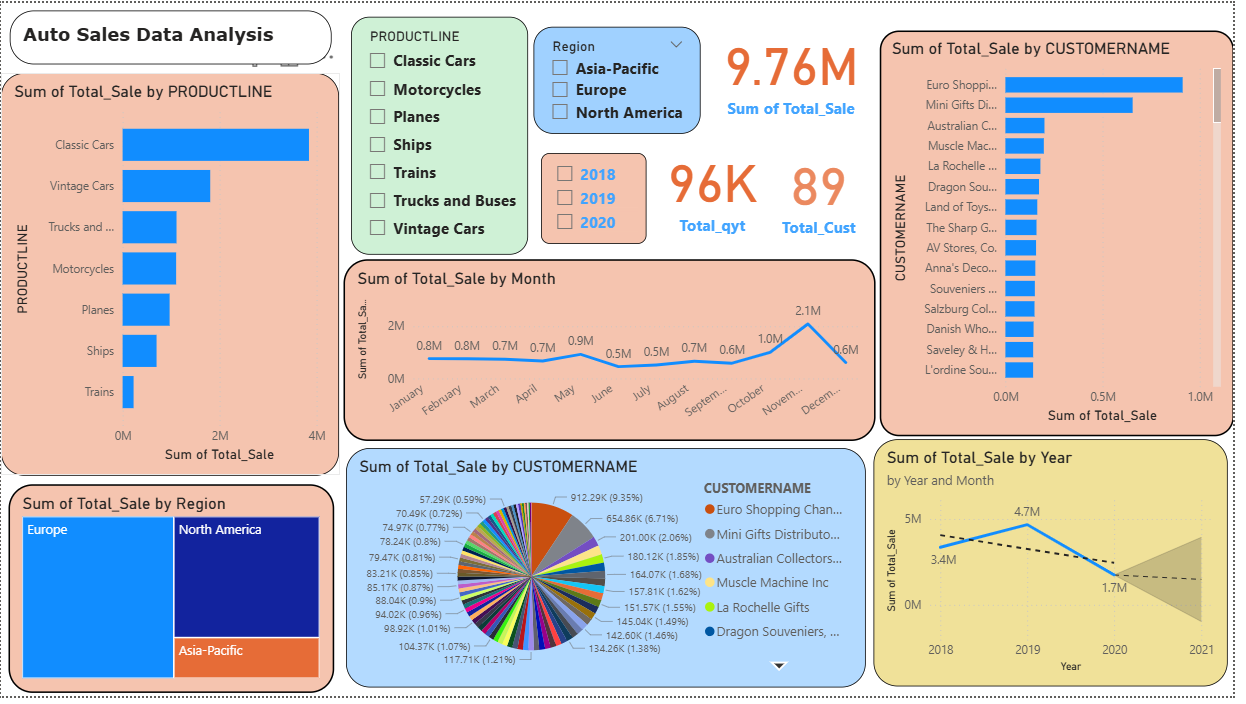

This screenshot's page, from the dashboard's own definition file:
{"tool":"powerbi","page":{"name":"Dashboard","canvas":[1280,720],"ordinal":8},"visuals":[{"type":"card","fields":{"Values":["Sum(Auto Sales data.Total_Sales)"]},"box":[729.8,7.1,182.4,128.3],"z":0},{"type":"card","fields":{"Values":["Auto Sales data.Total_qyt"]},"box":[677.1,136.8,125.4,111.2],"z":1000},{"type":"card","fields":{"Values":["Auto Sales data.Total_Cust"]},"box":[802.7,138.6,94.7,111.1],"z":2000},{"type":"lineChart","fields":{"Category":["Auto Sales data.ORDERDATE.Variation.Date Hierarchy.Year","Auto Sales data.ORDERDATE.Variation.Date Hierarchy.Month"],"Y":["Sum(Auto Sales data.Total_Sales)"]},"box":[355.7,265.7,552.9,188.6],"z":3000},{"type":"clusteredBarChart","fields":{"Y":["Sum(Auto Sales data.Total_Sales)"],"Category":["Auto Sales data.CUSTOMERNAME"]},"box":[912.5,28.8,367.8,421.3],"z":4000},{"type":"pieChart","fields":{"Category":["Auto Sales data.CUSTOMERNAME"],"Y":["Sum(Auto Sales data.Total_Sales)"]},"box":[358.6,462.9,540,248.6],"z":5000},{"type":"barChart","fields":{"Category":["Auto Sales data.PRODUCTLINE"],"Y":["Sum(Auto Sales data.Total_Sales)"]},"box":[0,72.9,351.4,418.6],"z":6000},{"type":"treemap","fields":{"Group":["Auto Sales data.Region"],"Values":["Sum(Auto Sales data.Total_Sales)"]},"box":[7.1,500,338.6,217.1],"z":7000},{"type":"lineChart","fields":{"Y":["Sum(Auto Sales data.Total_Sales)"],"Category":["Auto Sales data.ORDERDATE.Variation.Date Hierarchy.Year","Auto Sales data.ORDERDATE.Variation.Date Hierarchy.Quarter","Auto Sales data.ORDERDATE.Variation.Date Hierarchy.Month"]},"box":[907,452.8,367.8,256.6],"z":8000},{"type":"slicer","fields":{"Values":["Auto Sales data.Year"]},"box":[561.6,155.4,109.8,94.1],"z":9000},{"type":"textbox","box":[8.6,7.1,334.3,55.7],"z":10000},{"type":"slicer","fields":{"Values":["Auto Sales data.PRODUCTLINE"]},"box":[363.6,13.7,183.9,247],"z":11000},{"type":"slicer","fields":{"Values":["Auto Sales data.Region"]},"box":[553.1,24.2,173.9,111.2],"z":12000}]}

Visuals, with their boxes in screenshot pixels (x1, y1, x2, y2), scaled from the page's 1280x720 canvas onto the 1246x704 screenshot:
card - Sum(Auto Sales data.Total_Sales): locate(710, 7, 888, 132)
card - Auto Sales data.Total_qyt: locate(659, 134, 781, 242)
card - Auto Sales data.Total_Cust: locate(781, 136, 874, 244)
lineChart - Auto Sales data.ORDERDATE.Variation.Date Hierarchy.Year x Auto Sales data.ORDERDATE.Variation.Date Hierarchy.Month: locate(346, 260, 884, 444)
clusteredBarChart - Sum(Auto Sales data.Total_Sales) x Auto Sales data.CUSTOMERNAME: locate(888, 28, 1245, 440)
pieChart - Auto Sales data.CUSTOMERNAME x Sum(Auto Sales data.Total_Sales): locate(349, 453, 875, 696)
barChart - Auto Sales data.PRODUCTLINE x Sum(Auto Sales data.Total_Sales): locate(0, 71, 342, 481)
treemap - Auto Sales data.Region x Sum(Auto Sales data.Total_Sales): locate(7, 489, 337, 701)
lineChart - Sum(Auto Sales data.Total_Sales) x Auto Sales data.ORDERDATE.Variation.Date Hierarchy.Year: locate(883, 443, 1241, 694)
slicer - Auto Sales data.Year: locate(547, 152, 654, 244)
textbox: locate(8, 7, 334, 61)
slicer - Auto Sales data.PRODUCTLINE: locate(354, 13, 533, 255)
slicer - Auto Sales data.Region: locate(538, 24, 708, 132)
